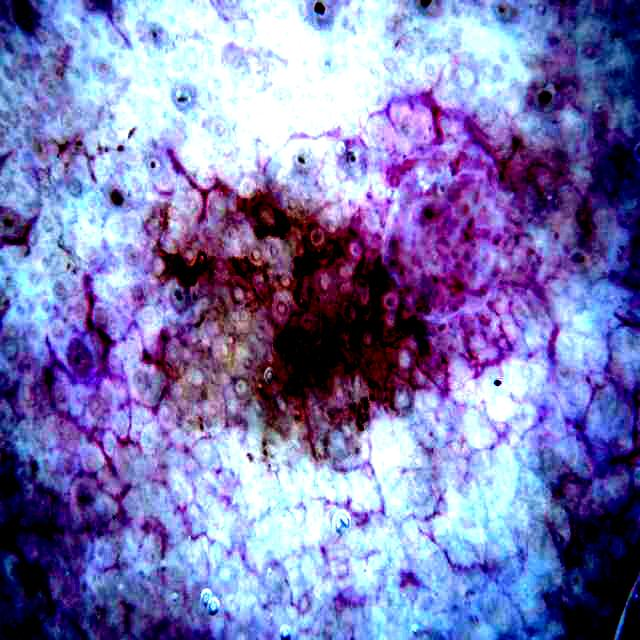AKIEC: (116, 95, 548, 517)
